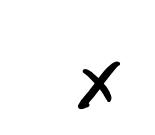mult: (77, 62, 121, 108)
